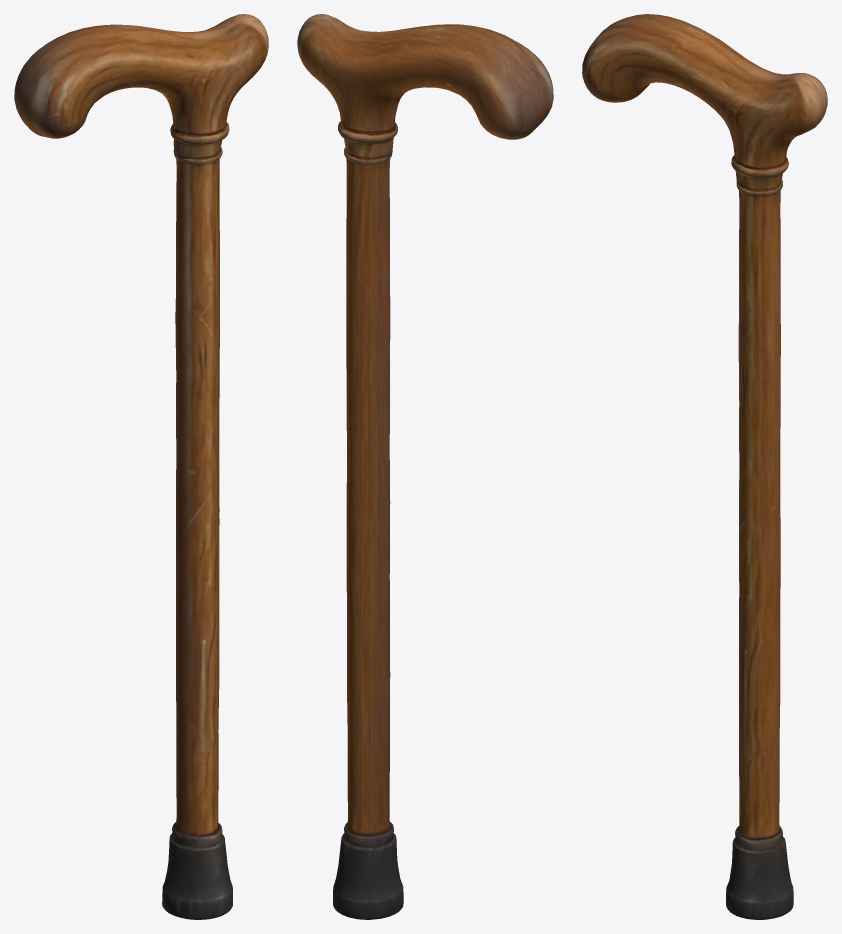
File: base_basic_pbr.glb
The picture shows the model from 3 angles, left to right: view 1: azimuth 30°, elevation 25°; view 2: azimuth 150°, elevation 25°; view 3: azimuth 330°, elevation 25°; orthographic projection. The views are drawn at different scales.
Parts seen in each view (by area): view 1: model; view 2: model; view 3: model.
Boxes of the visible parts, bbox=[...] form: model: bbox=[14, 14, 268, 919]; model: bbox=[297, 14, 553, 919]; model: bbox=[582, 14, 827, 919].
Bounding box in the file's own units: 0.5352 × 1.9 × 0.1637.
Materials: 1 (1 with a texture image).
